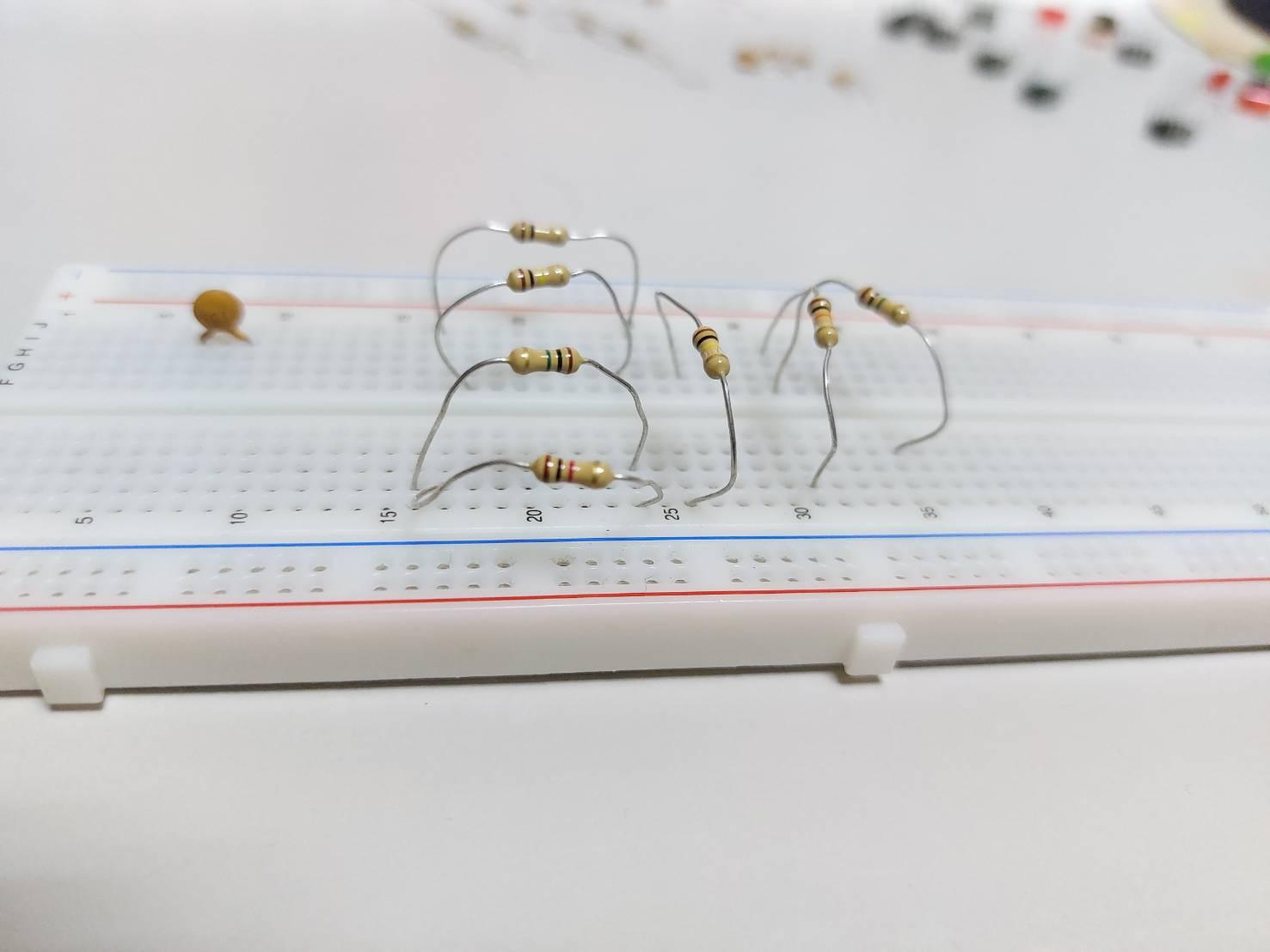resistor: (529, 456, 616, 489), (858, 283, 912, 327), (691, 325, 732, 380), (508, 346, 580, 377), (811, 296, 840, 353), (509, 266, 569, 290), (512, 221, 571, 245)
